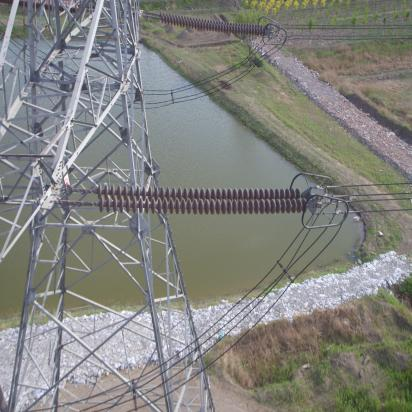insulator: (80, 182, 313, 217), (152, 10, 269, 38)
